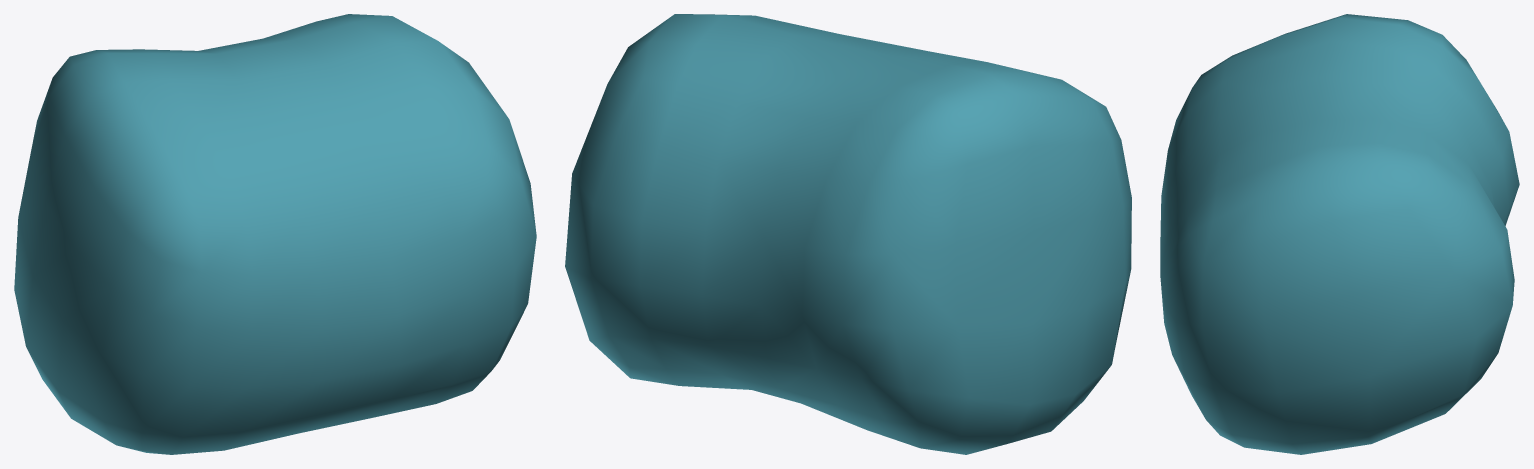
Rendered from VIS_Alpha_Surface_025.dae.
3 renders of one model, left to right at view 1: azimuth 30°, elevation 25°; view 2: azimuth 150°, elevation 25°; view 3: azimuth 270°, elevation 25°, orthographic. The views are drawn at different scales.
Parts seen in each view (by area): view 1: VIS_Alpha_Surface_025; view 2: VIS_Alpha_Surface_025; view 3: VIS_Alpha_Surface_025.
Boxes of the visible parts, <box> form: VIS_Alpha_Surface_025: <box>14,14,536,454</box>; VIS_Alpha_Surface_025: <box>565,14,1131,454</box>; VIS_Alpha_Surface_025: <box>1160,14,1519,454</box>.
Size of the model in its own units: 0.0285 by 0.0225 by 0.0216.
